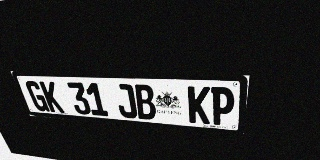1: (83, 83, 109, 116)
3: (66, 82, 92, 115)
B: (133, 84, 157, 120)
G: (24, 81, 50, 112)
J: (114, 84, 138, 119)
K: (188, 86, 210, 124), (39, 81, 65, 113)
P: (210, 87, 235, 126)
